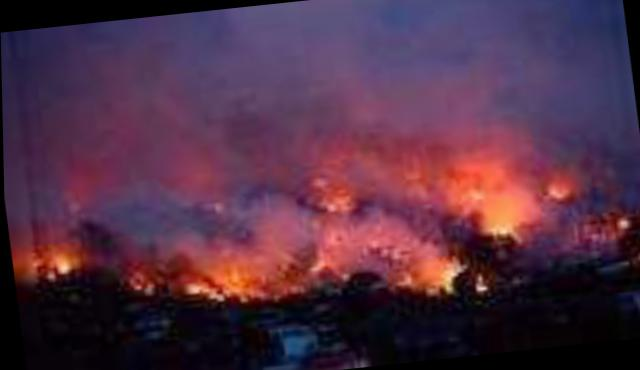fire: (21, 117, 599, 326)
